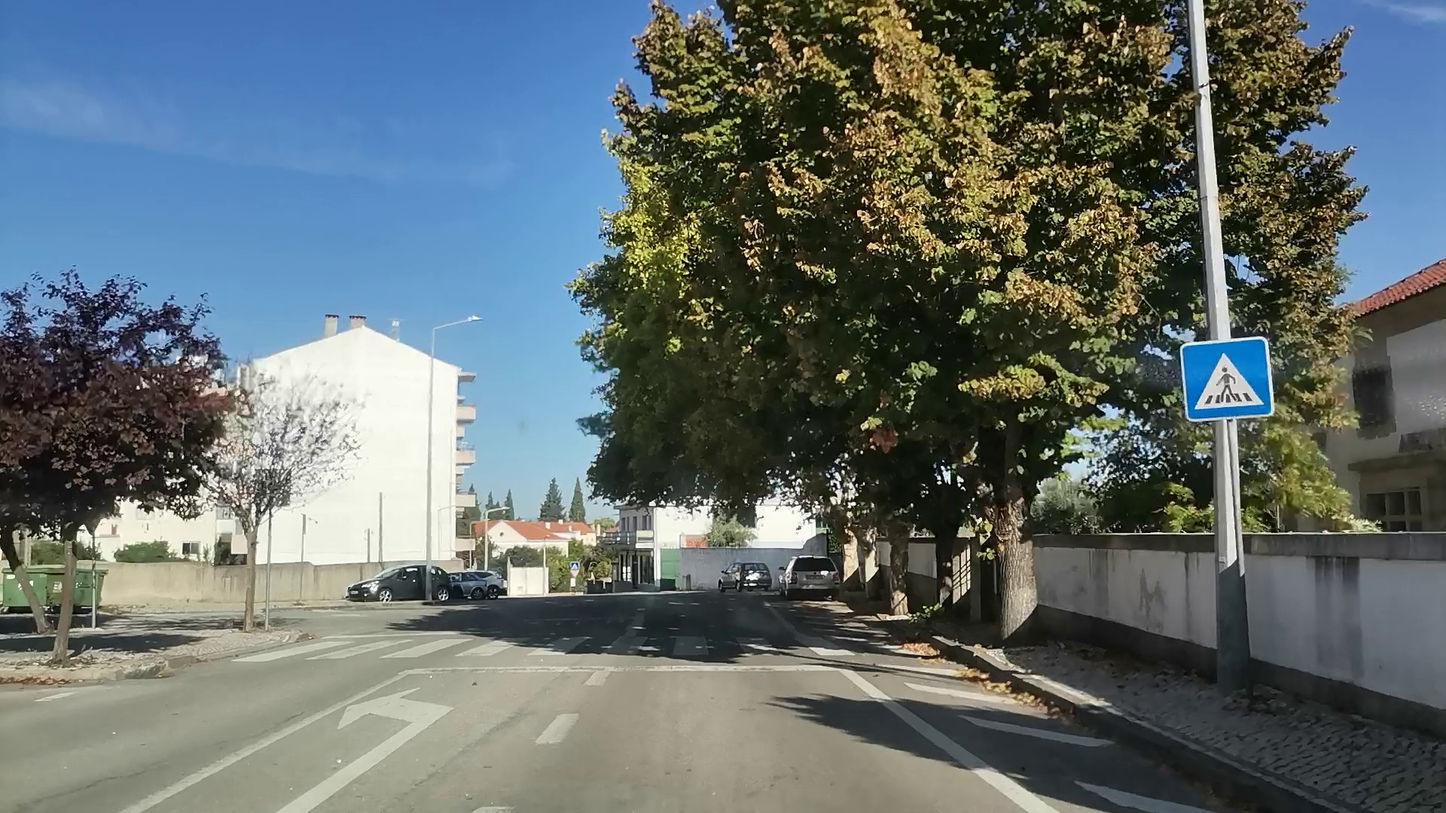Stairs: (232, 632, 854, 662)
